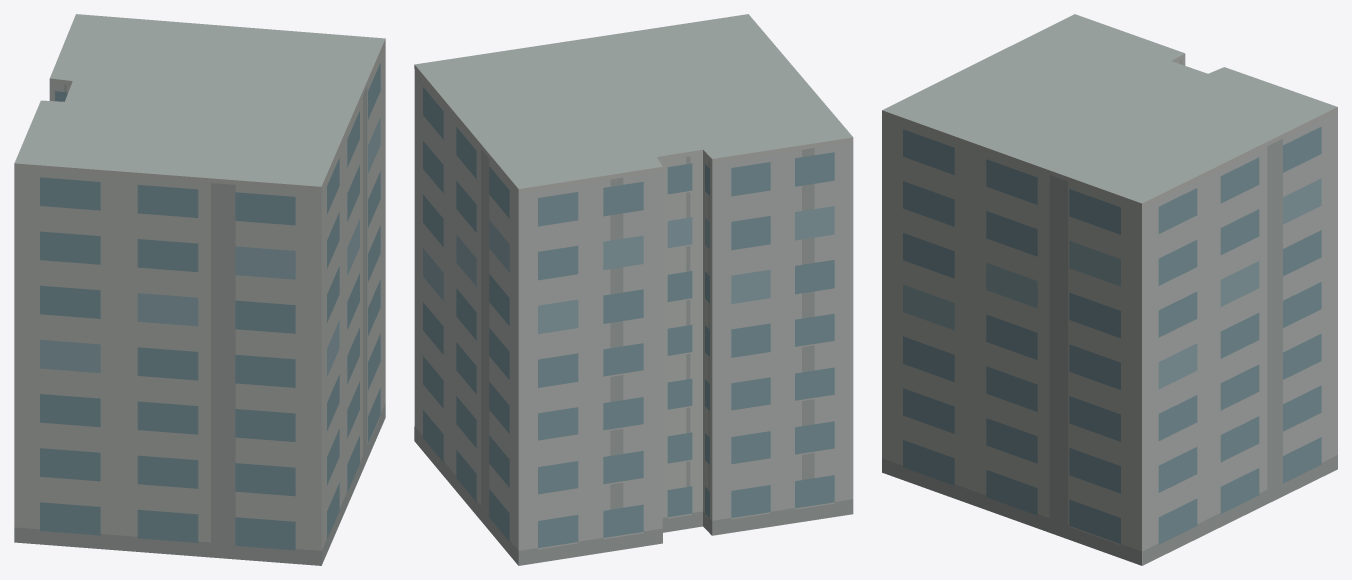
The model's file is survey-upis-32649408.glb.
3 renders of one model, left to right at view 1: azimuth 30°, elevation 25°; view 2: azimuth 150°, elevation 25°; view 3: azimuth 270°, elevation 25°, orthographic. The views are drawn at different scales.
Parts seen in each view (by area): view 1: survey-upis-32649408.tmp; view 2: survey-upis-32649408.tmp; view 3: survey-upis-32649408.tmp.
Part boxes in pixels (left/top/right/bottom): survey-upis-32649408.tmp: left=14, top=14, right=385, bottom=565; survey-upis-32649408.tmp: left=414, top=14, right=853, bottom=565; survey-upis-32649408.tmp: left=882, top=14, right=1337, bottom=565.
Bounding box in the file's own units: 22.39 × 19.95 × 22.75.
